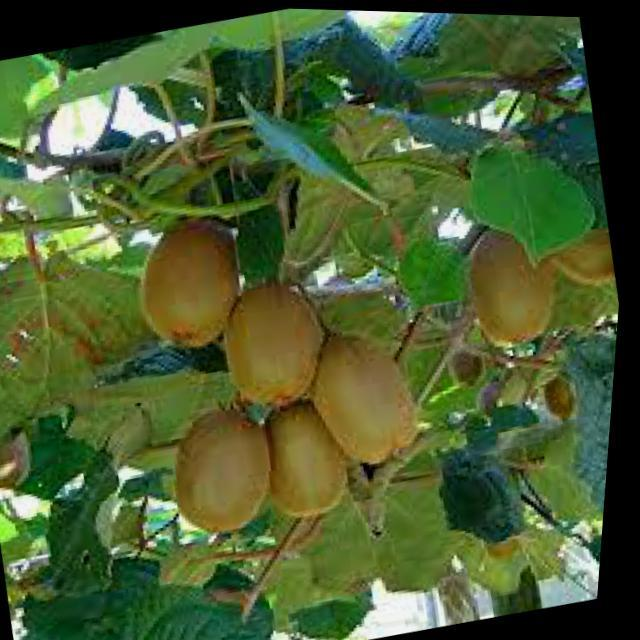kiwi: (301, 310, 444, 477), (162, 394, 301, 549), (127, 205, 263, 357), (213, 270, 346, 419), (455, 210, 576, 356), (250, 383, 372, 525)
